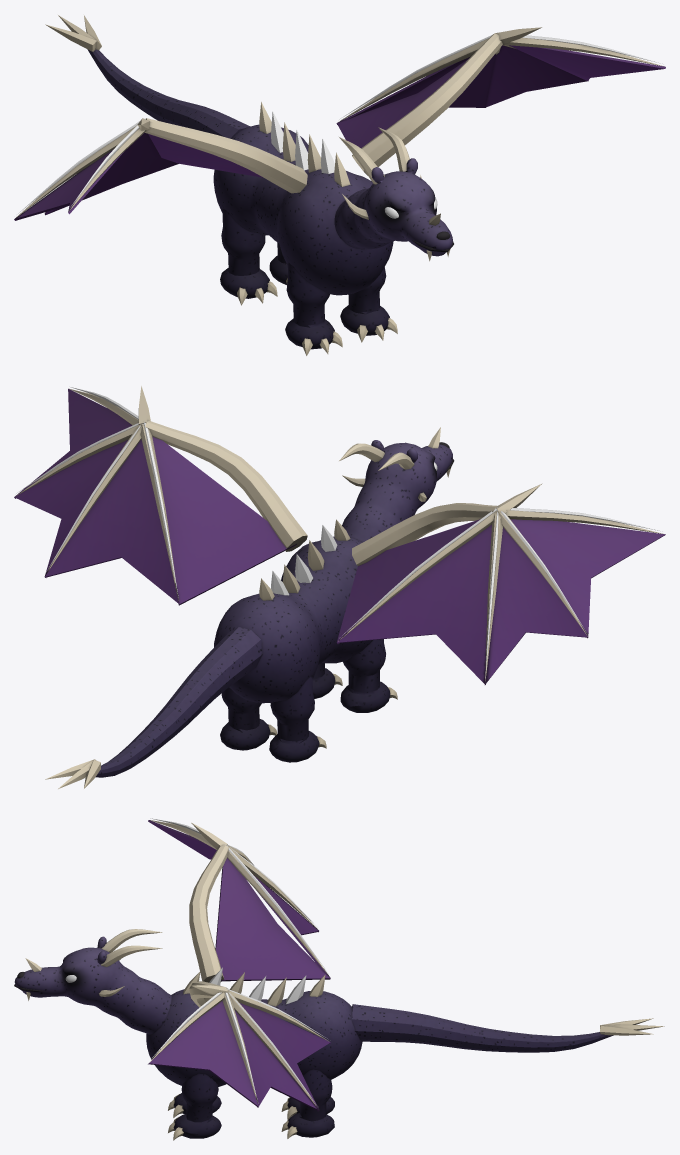
File: foe_dragon.fbx
3 renders of one model, top to bottom at view 1: azimuth 30°, elevation 25°; view 2: azimuth 150°, elevation 25°; view 3: azimuth 270°, elevation 25°, orthographic. The views are drawn at different scales.
Visible parts, largest first — view 1: foe_dragon_wing_l, foe_dragon_body, foe_dragon_wing_r, foe_dragon_head, foe_dragon_tail, foe_dragon_leg_br, foe_dragon_leg_fr, foe_dragon_leg_fl, foe_dragon_body_glow, foe_dragon_wing_l_glow, foe_dragon_wing_r_glow; view 2: foe_dragon_wing_r, foe_dragon_wing_l, foe_dragon_body, foe_dragon_head, foe_dragon_tail, foe_dragon_leg_br, foe_dragon_leg_fr, foe_dragon_leg_bl, foe_dragon_wing_r_glow, foe_dragon_wing_l_glow, foe_dragon_body_glow, foe_dragon_leg_fl; view 3: foe_dragon_wing_r, foe_dragon_wing_l, foe_dragon_head, foe_dragon_body, foe_dragon_tail, foe_dragon_leg_fl, foe_dragon_leg_bl, foe_dragon_wing_l_glow, foe_dragon_wing_r_glow, foe_dragon_body_glow.
Part boxes in pixels (box(x1,y1,x2,y2)): foe_dragon_wing_l: box(336, 27, 665, 175); foe_dragon_body: box(213, 102, 393, 295); foe_dragon_wing_r: box(14, 118, 307, 220); foe_dragon_head: box(334, 127, 453, 261); foe_dragon_tail: box(45, 15, 250, 138); foe_dragon_leg_br: box(220, 209, 277, 305); foe_dragon_leg_fr: box(285, 263, 342, 355); foe_dragon_leg_fl: box(340, 267, 397, 342); foe_dragon_body_glow: box(271, 111, 334, 173); foe_dragon_wing_l_glow: box(339, 32, 662, 119); foe_dragon_wing_r_glow: box(17, 119, 145, 214); foe_dragon_wing_r: box(336, 483, 665, 684); foe_dragon_wing_l: box(14, 386, 307, 605); foe_dragon_body: box(214, 519, 372, 703); foe_dragon_head: box(339, 427, 454, 542); foe_dragon_tail: box(45, 627, 262, 788); foe_dragon_leg_br: box(269, 676, 326, 762); foe_dragon_leg_fr: box(340, 639, 397, 712); foe_dragon_leg_bl: box(220, 687, 277, 750); foe_dragon_wing_r_glow: box(339, 507, 662, 677); foe_dragon_wing_l_glow: box(16, 387, 178, 597); foe_dragon_body_glow: box(271, 525, 337, 595); foe_dragon_leg_fl: box(312, 663, 342, 698); foe_dragon_wing_r: box(148, 820, 330, 982); foe_dragon_wing_l: box(148, 981, 330, 1111); foe_dragon_head: box(14, 929, 171, 1034); foe_dragon_body: box(146, 971, 362, 1086); foe_dragon_tail: box(352, 1004, 664, 1052); foe_dragon_leg_fl: box(168, 1073, 221, 1140); foe_dragon_leg_bl: box(281, 1069, 334, 1138); foe_dragon_wing_l_glow: box(150, 988, 328, 1104); foe_dragon_wing_r_glow: box(150, 818, 328, 973); foe_dragon_body_glow: box(209, 967, 306, 1003).
Size of the model in its own units: 2432 by 1029 by 2751.
Materials: 2 (1 with a texture image).
